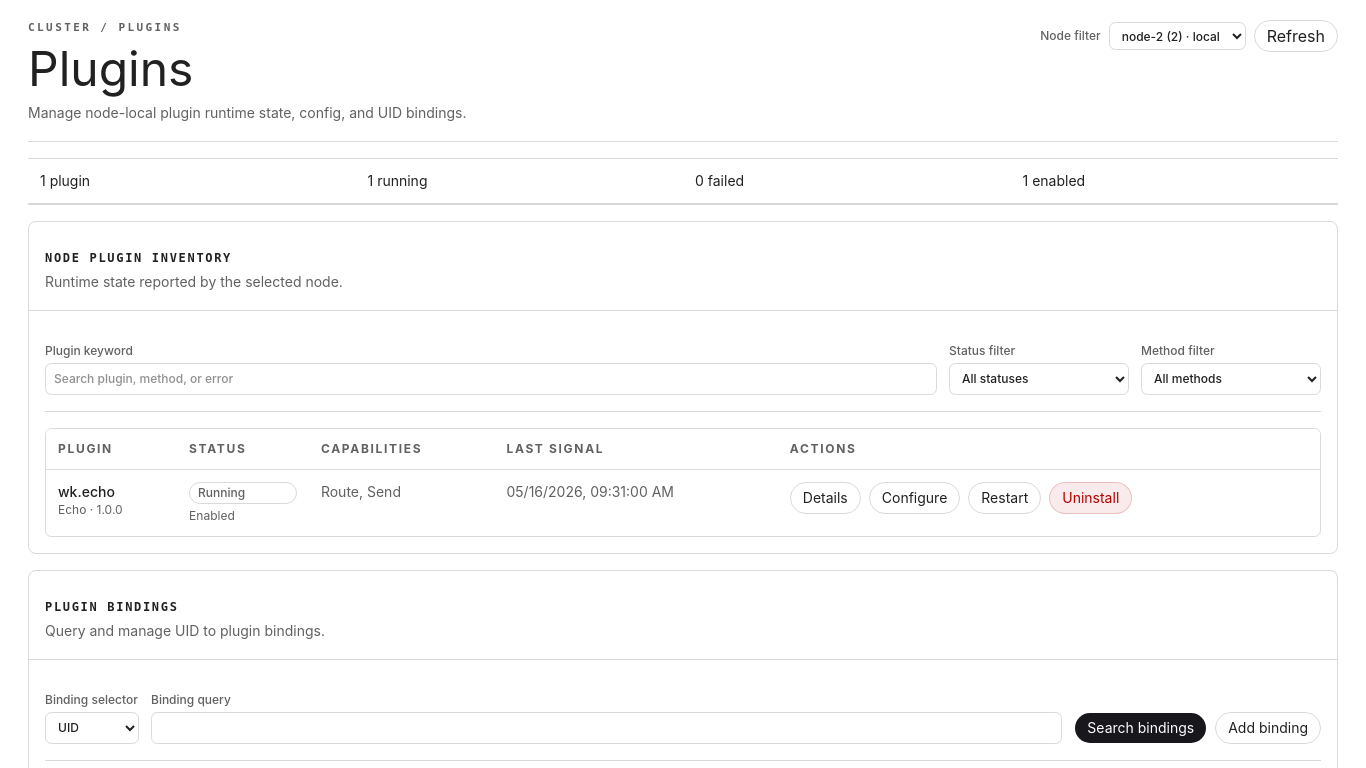
it: opens plugin detail from manager APIs
This screenshot has width=1366, height=768.
Expected: the text "wk.echo" is shown, [58, 482, 115, 500]
Click the button with aria-label "View plugin wk.echo details".
click(825, 498)  # box [790, 482, 861, 514]
(page scrolled)
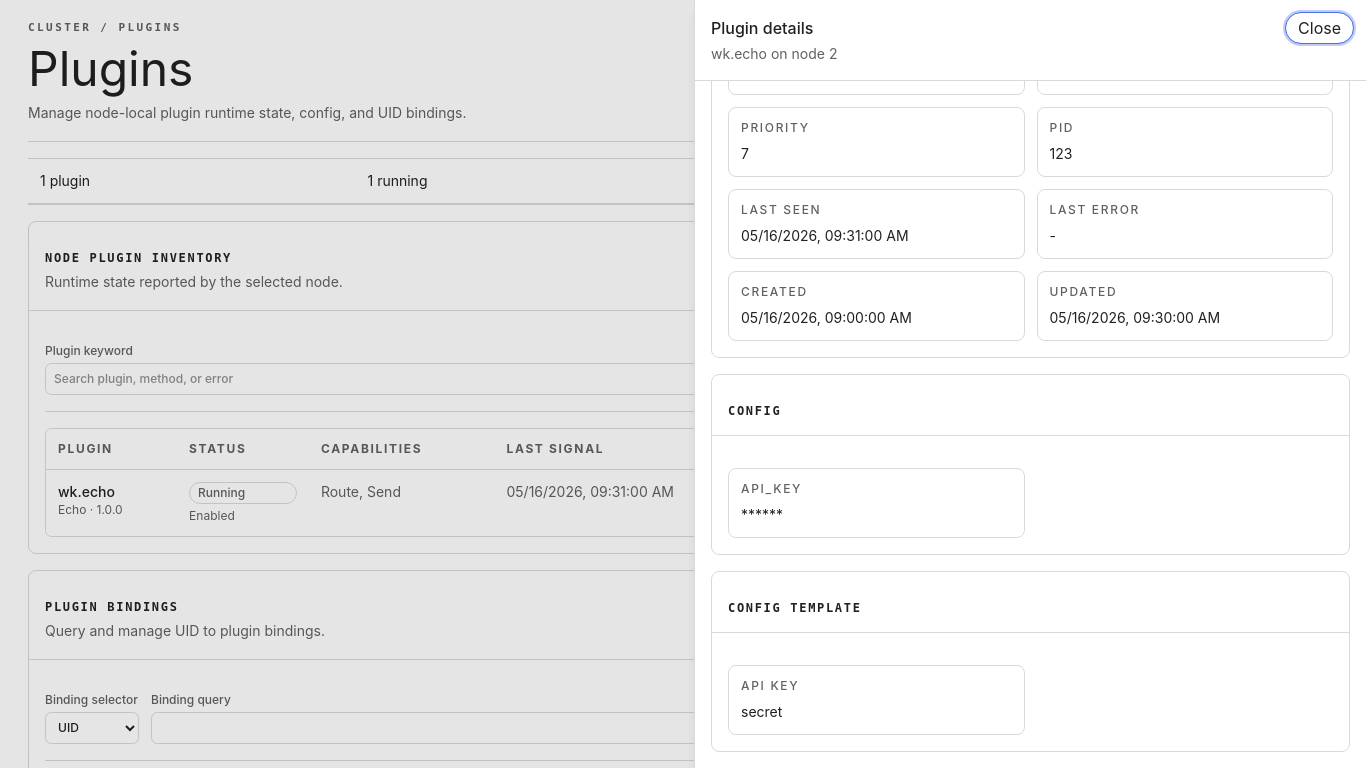
Expected: the heading "Plugin details" is shown, [711, 18, 813, 38]
Expected: the text "API Key" is shown, [741, 678, 799, 693]
Expected: the text "******" is shown, [741, 506, 783, 523]
